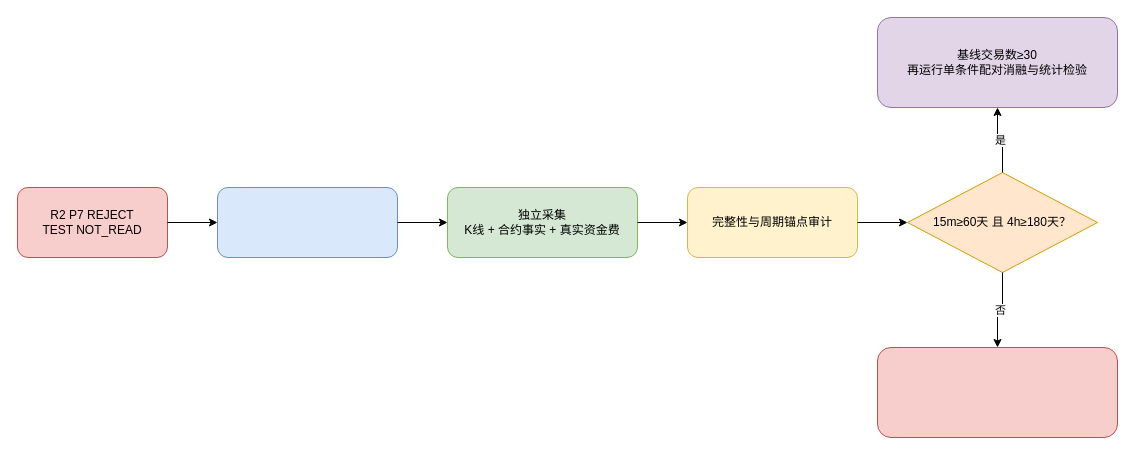
This 1135x455 diagram has some shape labels left out. Each missing label, with the centre of its shape:
"R3 预注册 cutoff + 2 个结构性假设" goes at [307,222].
"当前：7天 ACCRUING / INSUFFICIENT_EVIDENCE 不读取收益" goes at [997,392].
